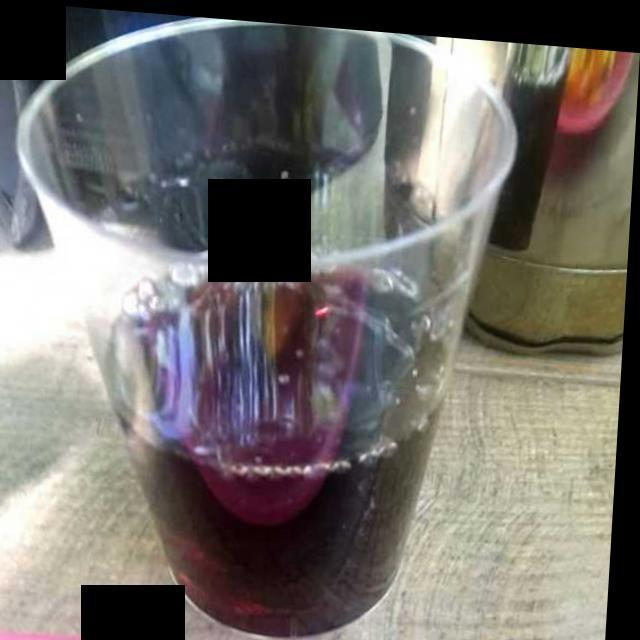wine: (93, 271, 443, 638)
